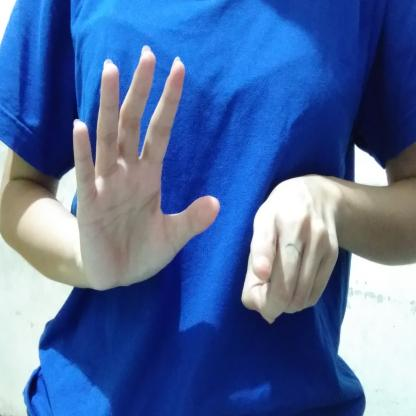stop: (64, 41, 348, 329)
